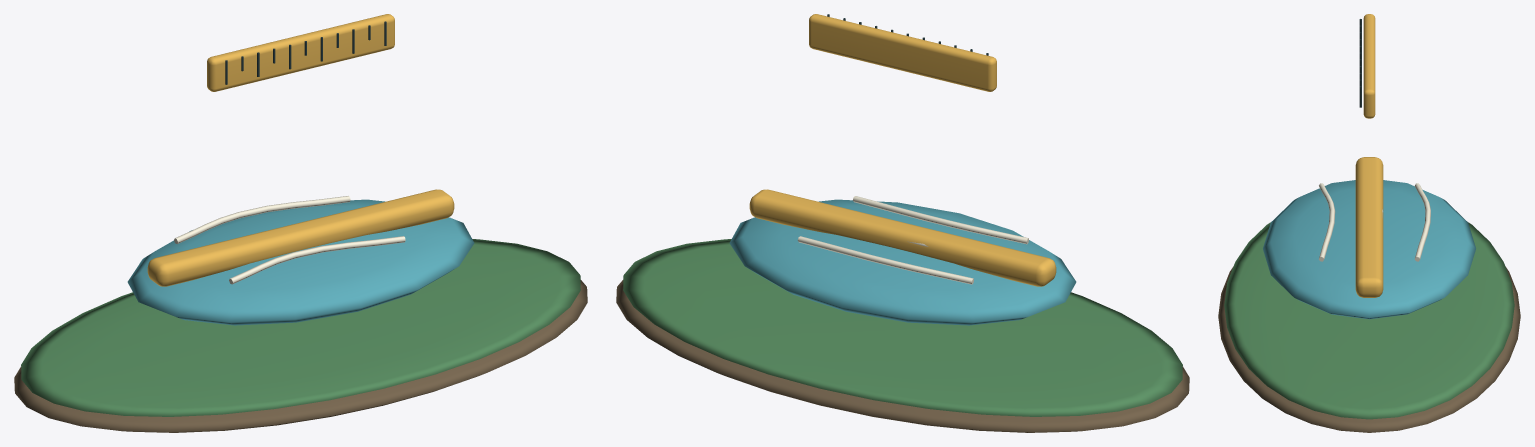
The model's file is complete-second-water-level.glb.
The picture shows the model from 3 angles, left to right: view 1: azimuth 30°, elevation 25°; view 2: azimuth 150°, elevation 25°; view 3: azimuth 270°, elevation 25°; orthographic projection. The views are drawn at different scales.
Visible parts, largest first — view 1: complete-second-water-level_surface_01, complete-second-water-level_surface_02, complete-second-water-level_surface_04, complete-second-water-level_surface_00, complete-second-water-level_surface_03, complete-second-water-level_surface_05; view 2: complete-second-water-level_surface_01, complete-second-water-level_surface_02, complete-second-water-level_surface_04, complete-second-water-level_surface_00, complete-second-water-level_surface_03; view 3: complete-second-water-level_surface_01, complete-second-water-level_surface_02, complete-second-water-level_surface_00, complete-second-water-level_surface_04, complete-second-water-level_surface_03.
Boxes of the visible parts, box(x1,y1,x2,y2) form: complete-second-water-level_surface_01: box(21, 239, 580, 416); complete-second-water-level_surface_02: box(127, 199, 474, 325); complete-second-water-level_surface_04: box(147, 14, 454, 286); complete-second-water-level_surface_00: box(14, 280, 587, 432); complete-second-water-level_surface_03: box(174, 196, 405, 284); complete-second-water-level_surface_05: box(225, 21, 386, 84); complete-second-water-level_surface_01: box(623, 239, 1182, 416); complete-second-water-level_surface_02: box(729, 199, 1076, 325); complete-second-water-level_surface_04: box(749, 14, 1056, 286); complete-second-water-level_surface_00: box(616, 280, 1189, 432); complete-second-water-level_surface_03: box(797, 196, 1028, 284); complete-second-water-level_surface_01: box(1224, 222, 1514, 419); complete-second-water-level_surface_02: box(1263, 180, 1475, 319); complete-second-water-level_surface_00: box(1218, 266, 1520, 432); complete-second-water-level_surface_04: box(1355, 14, 1383, 297); complete-second-water-level_surface_03: box(1319, 183, 1430, 261).
Bounding box in the file's own units: 4.56 × 2.54 × 2.5.
